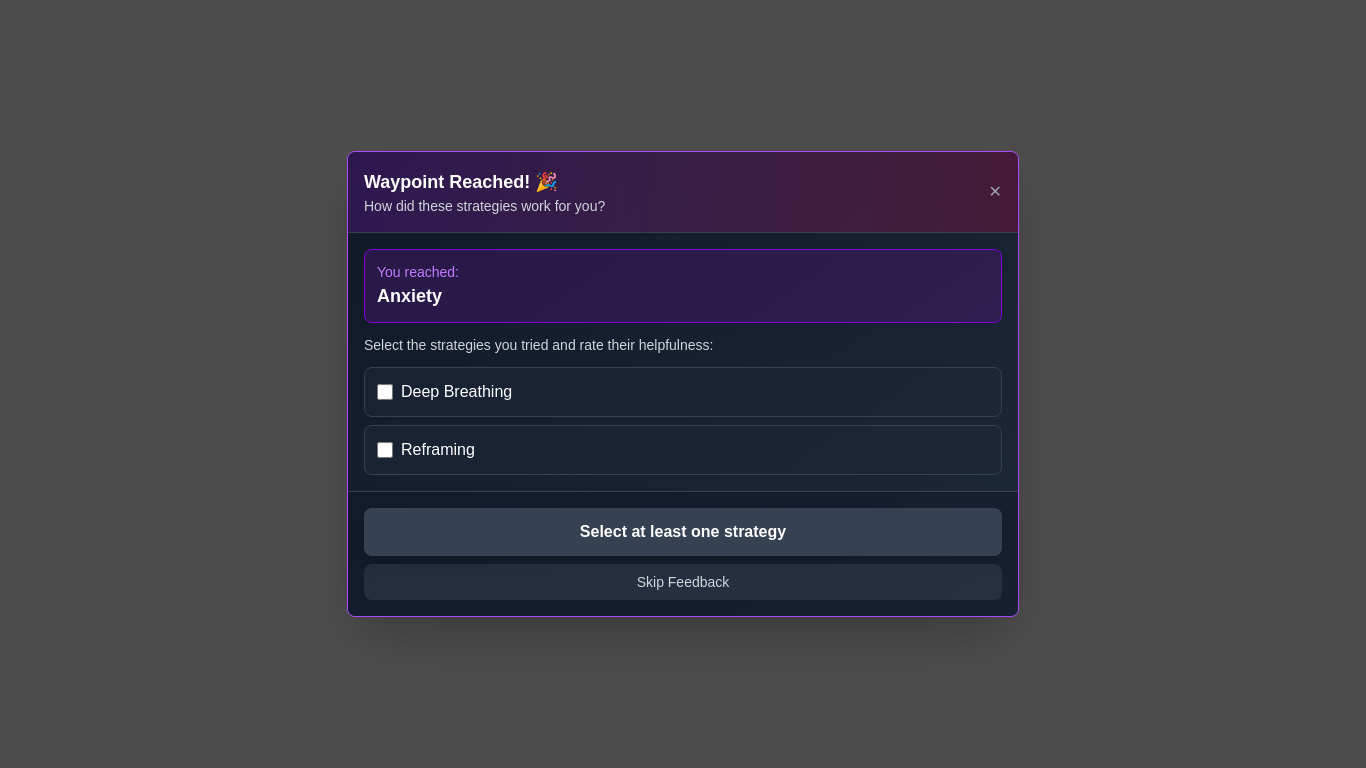
StrategyFeedbackModal › handles singular star rating label
Click the text "Deep Breathing" at (457, 392), box [401,380,512,404]
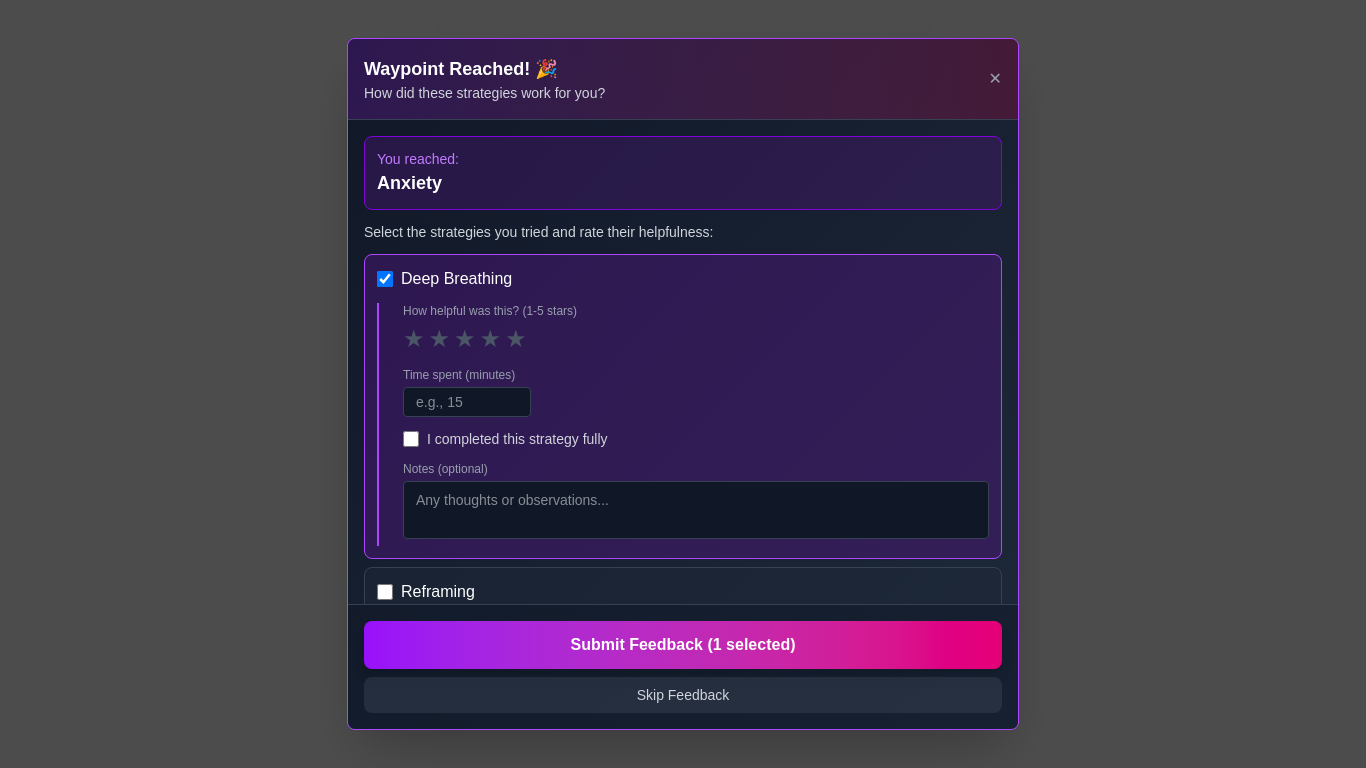
// Click 1st star
Click the 1st button "★" at (414, 339), box [403,323,424,355]
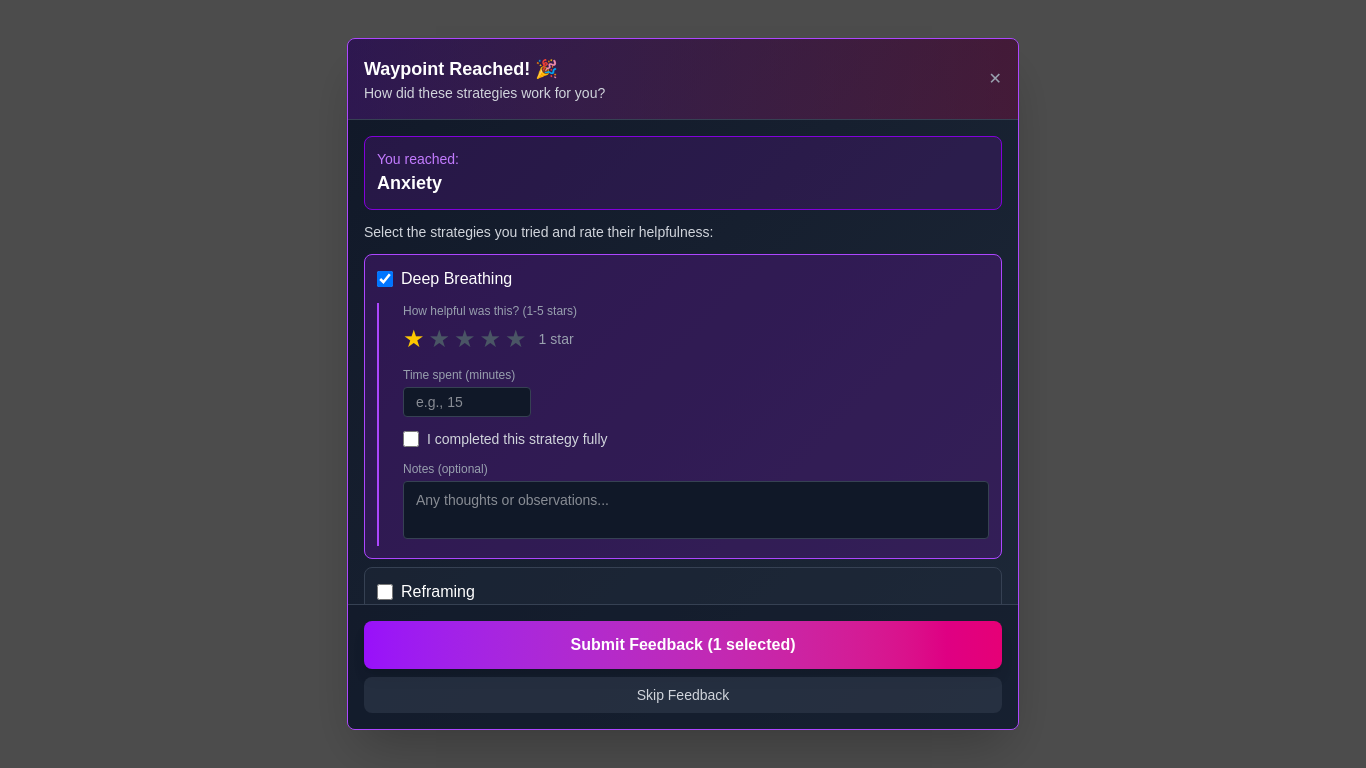
Result: the text "1 star" is shown at [539,329,574,349]
